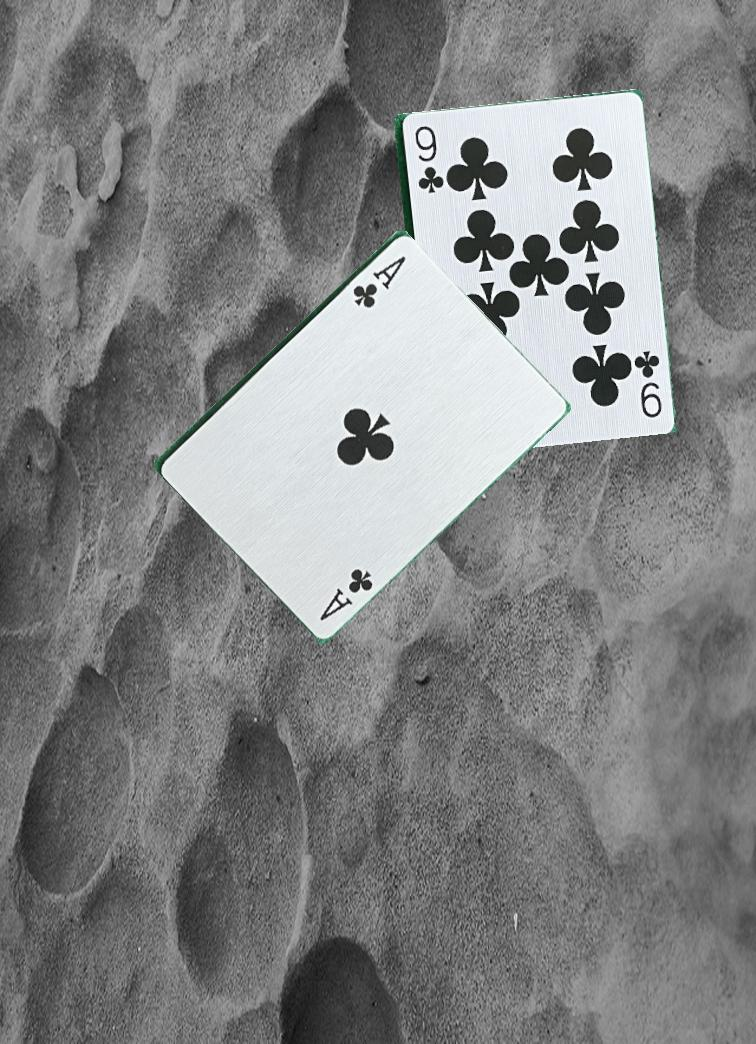9c: (630, 342, 665, 420), (410, 121, 437, 196)
ac: (349, 251, 409, 310), (316, 564, 376, 623)
